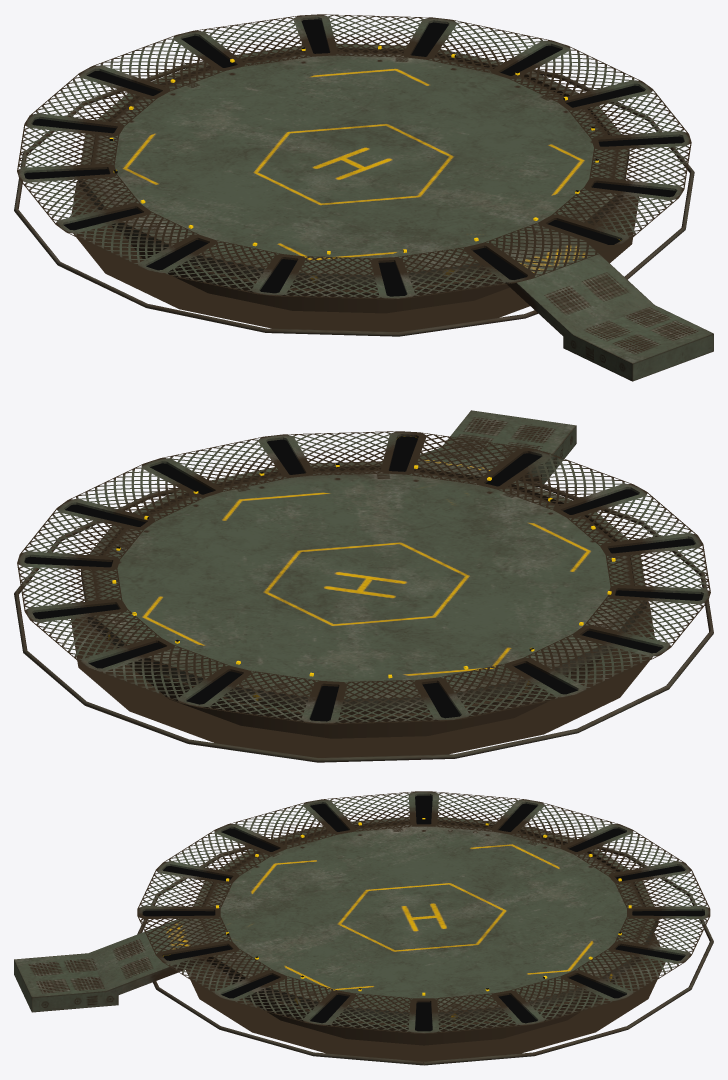
The model's file is heliport3.glb.
The picture shows the model from 3 angles, top to bottom: view 1: azimuth 30°, elevation 25°; view 2: azimuth 150°, elevation 25°; view 3: azimuth 270°, elevation 25°; orthographic projection. The views are drawn at different scales.
Parts seen in each view (by area): view 1: Object_5, Object_2, Object_4; view 2: Object_5, Object_2, Object_4; view 3: Object_5, Object_2, Object_4.
Boxes of the visible parts, x1,y1,x2,y2 form: Object_5: [14, 43, 713, 381]; Object_2: [17, 14, 691, 299]; Object_4: [24, 19, 684, 296]; Object_5: [14, 410, 713, 762]; Object_2: [17, 431, 710, 724]; Object_4: [24, 436, 703, 721]; Object_5: [14, 817, 713, 1065]; Object_2: [137, 791, 710, 1033]; Object_4: [142, 795, 704, 1031].
Bounding box in the file's own units: 3020 × 310 × 3644.
Materials: 3 (3 with a texture image).
